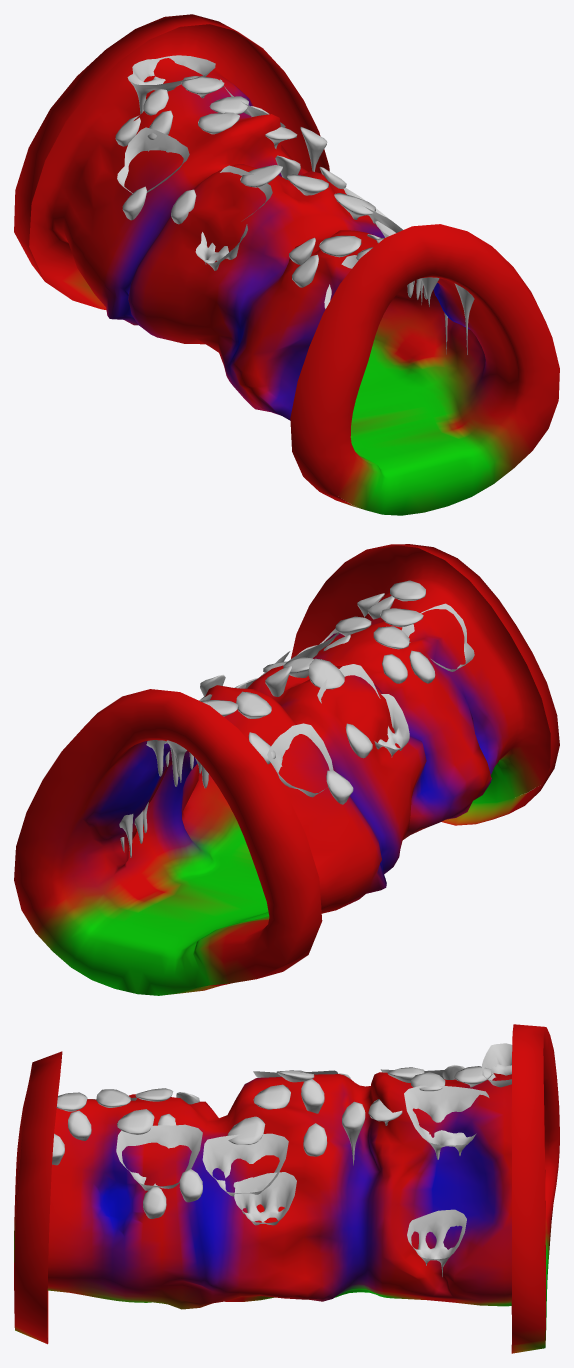
File: cave_tunnel_straight_01_stalactites.dae
The picture shows the model from 3 angles, top to bottom: view 1: azimuth 30°, elevation 25°; view 2: azimuth 150°, elevation 25°; view 3: azimuth 270°, elevation 25°; orthographic projection. The views are drawn at different scales.
Visible parts, largest first — view 1: tunnel_straight_01__2_, stalactites; view 2: tunnel_straight_01__2_, stalactites; view 3: tunnel_straight_01__2_, stalactites.
Boxes of the visible parts, bbox=[...] form: tunnel_straight_01__2_: bbox=[14, 14, 559, 515]; stalactites: bbox=[115, 55, 474, 354]; tunnel_straight_01__2_: bbox=[14, 544, 559, 995]; stalactites: bbox=[119, 580, 474, 857]; tunnel_straight_01__2_: bbox=[14, 1024, 559, 1353]; stalactites: bbox=[52, 1043, 512, 1276].
Size of what is drawn, in the model's own units: 6.9 by 6.7 by 11.43.
